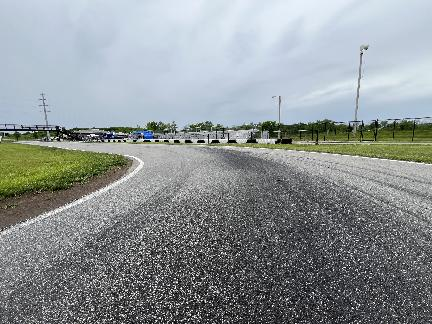Grass: (0, 143, 126, 218), (206, 144, 431, 163), (2, 202, 21, 209)
Lane: (0, 143, 431, 323)
